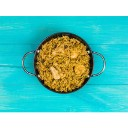briyani: (42, 40, 87, 87)
